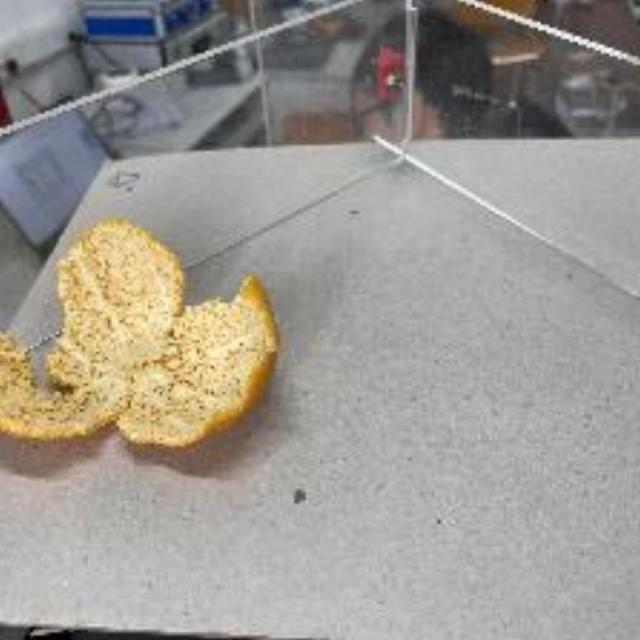orange-peel: (2, 220, 280, 447)
